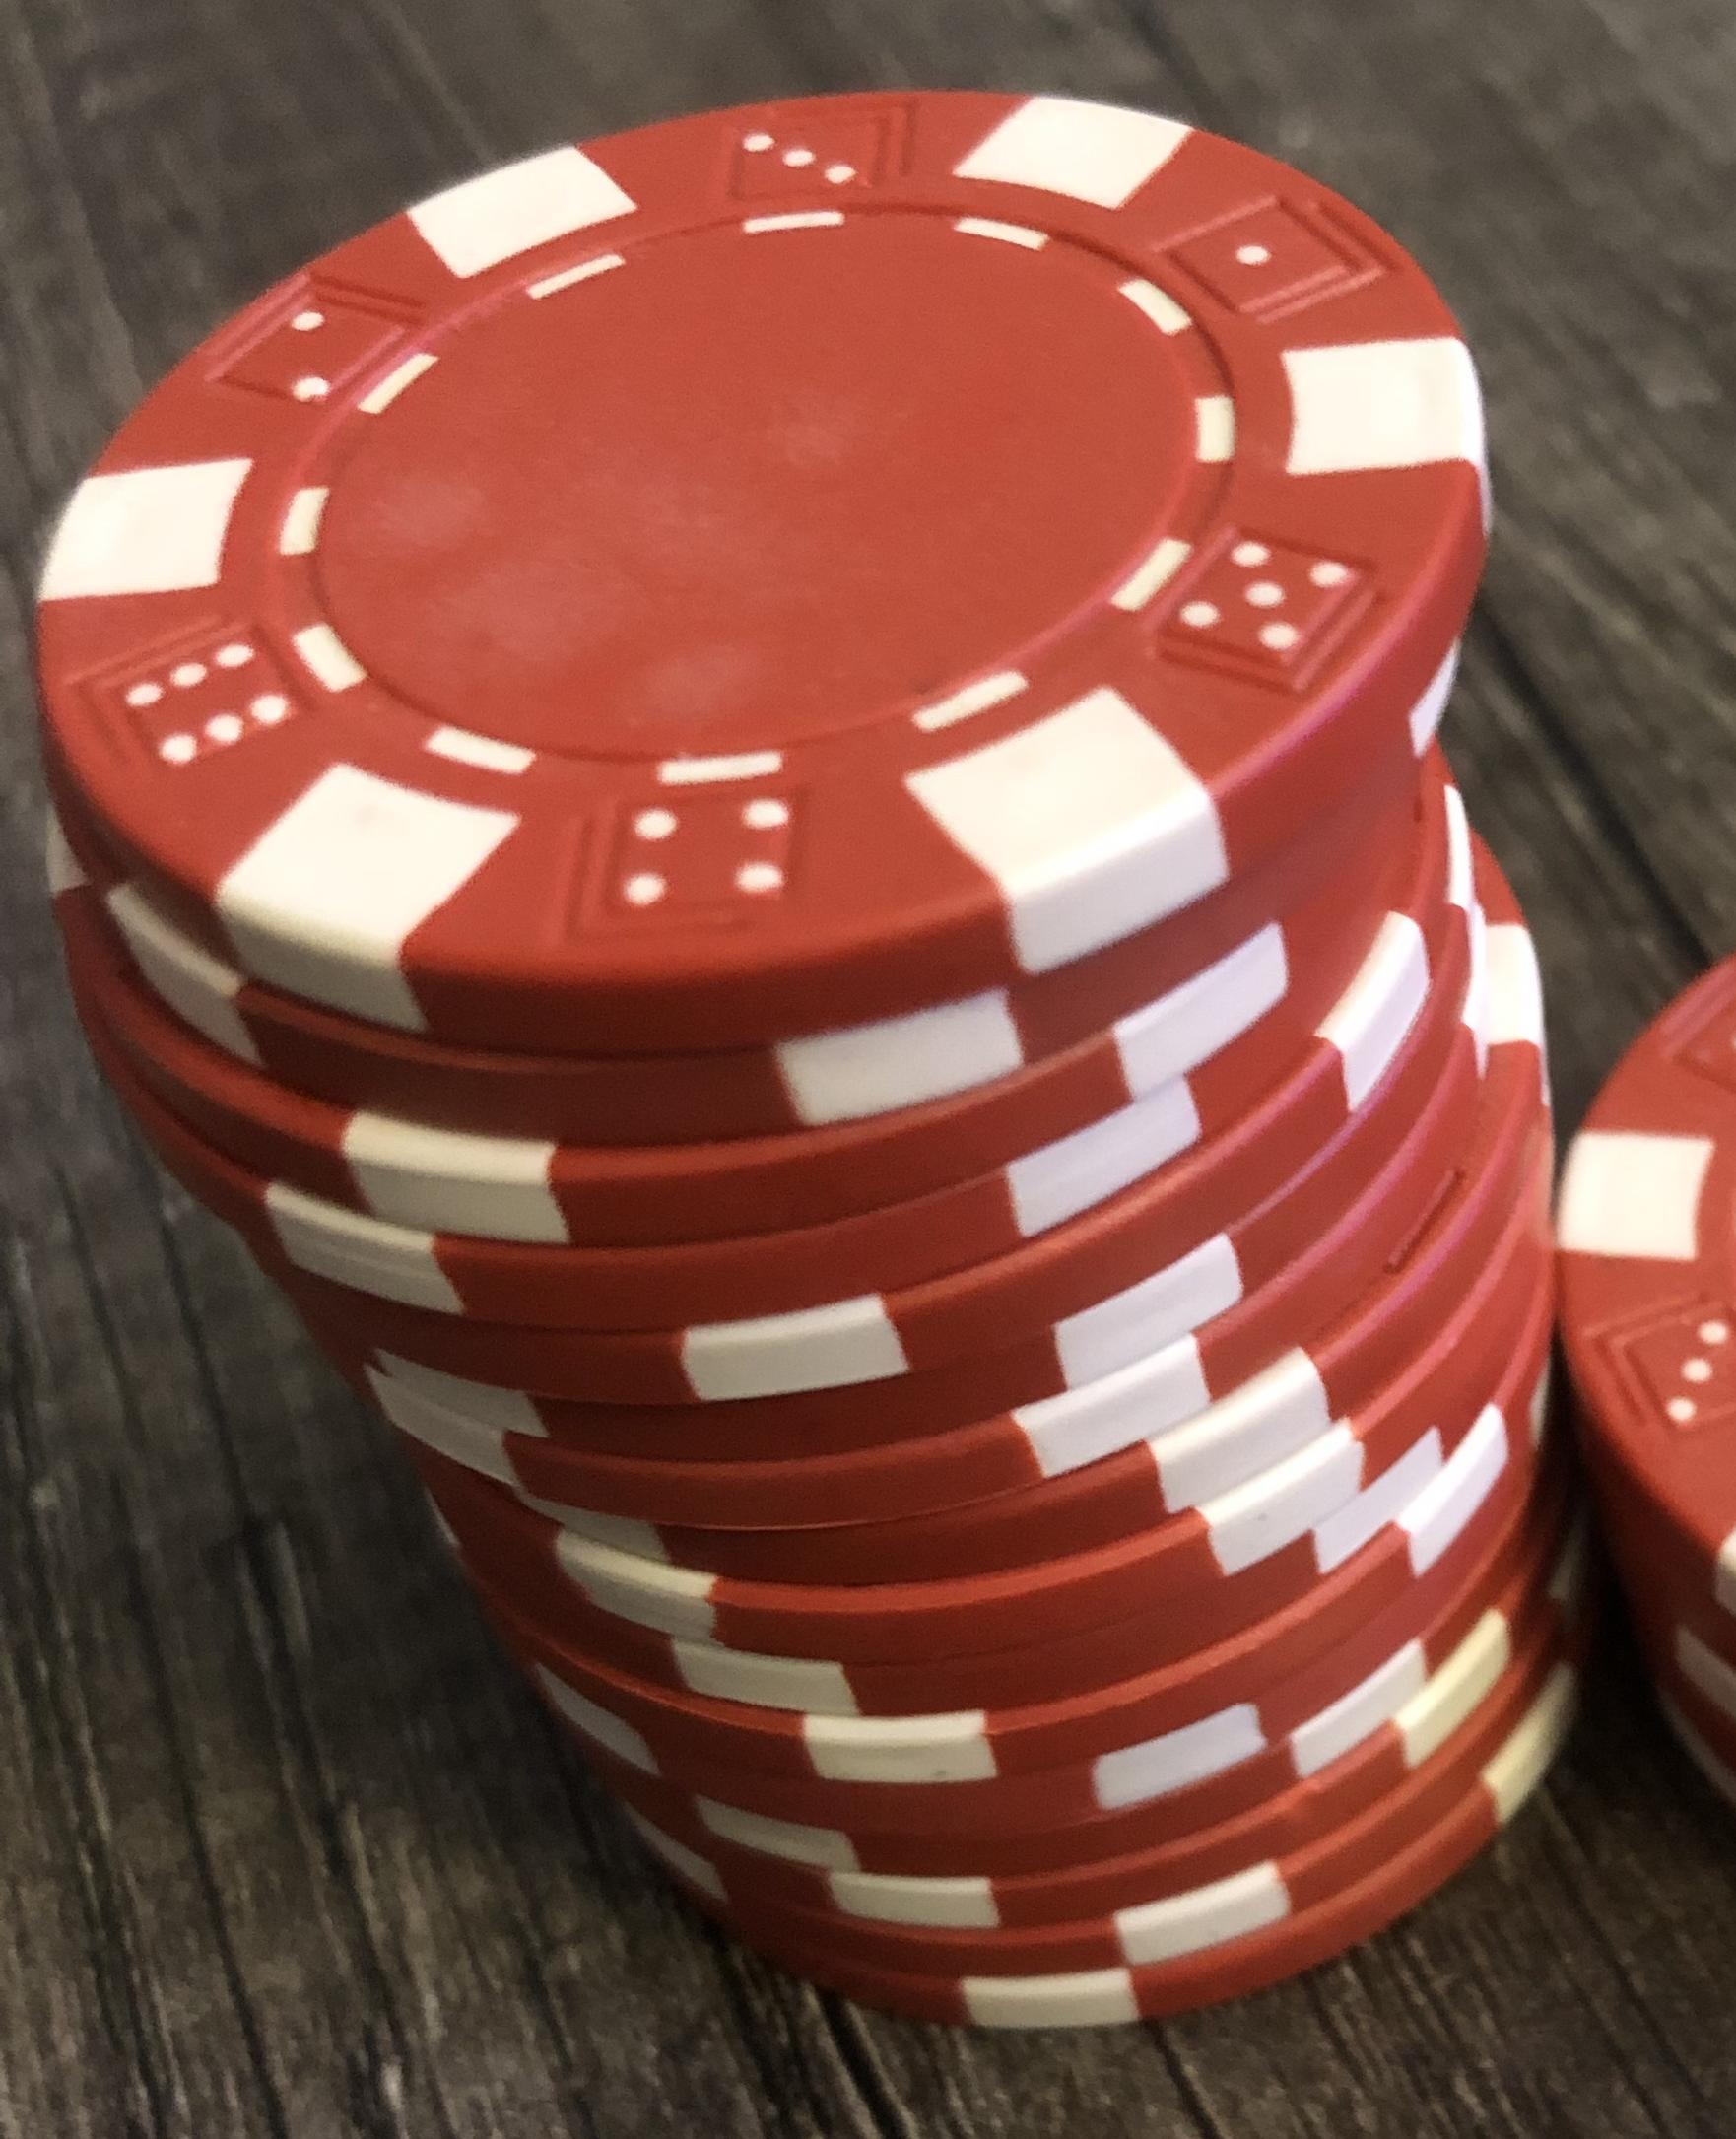Chip: (1, 1, 1736, 2139)
